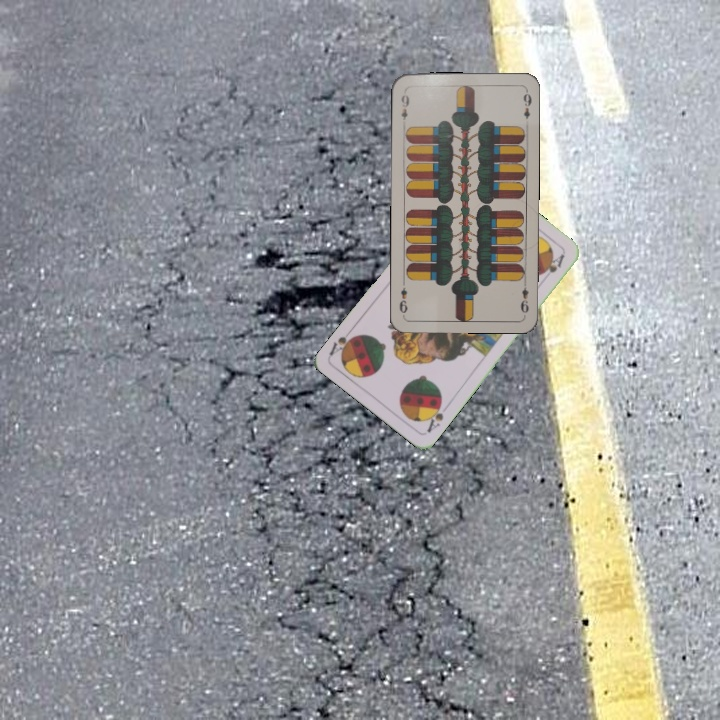E9: (517, 276, 531, 316), (397, 87, 411, 123)
SA: (422, 397, 446, 435)
